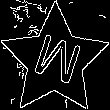M_S: (26, 29, 84, 92)
